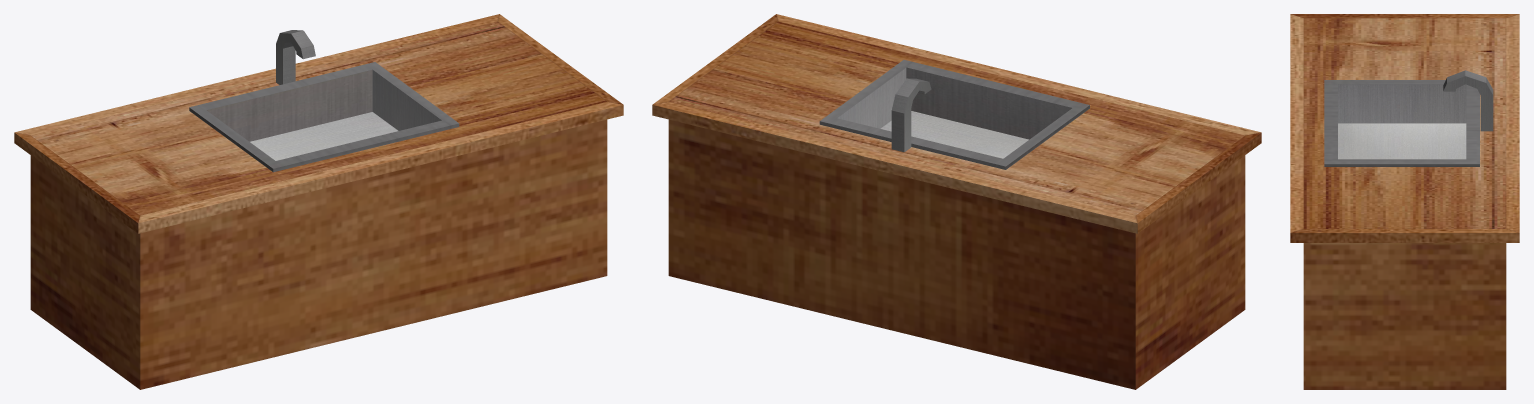
Rendered from KitchenSink.fbx.
The picture shows the model from 3 angles, left to right: view 1: azimuth 30°, elevation 25°; view 2: azimuth 150°, elevation 25°; view 3: azimuth 270°, elevation 25°; orthographic projection. The views are drawn at different scales.
Parts seen in each view (by area): view 1: Sink; view 2: Sink; view 3: Sink.
Boxes of the visible parts, <box> form: Sink: <box>14,14,623,389</box>; Sink: <box>652,14,1261,389</box>; Sink: <box>1290,14,1519,389</box>.
Bounding box in the file's own units: 204 × 94.18 × 90.51.
Materials: 1 (1 with a texture image).
